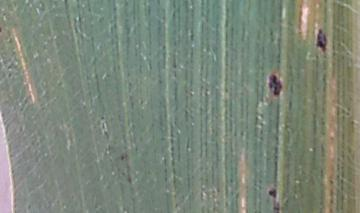tarspot: (266, 73, 284, 97), (314, 27, 328, 53), (267, 186, 279, 199), (125, 175, 133, 186), (118, 153, 125, 163), (268, 27, 275, 37), (99, 115, 106, 122), (6, 64, 13, 71), (7, 71, 11, 79), (62, 1, 69, 5), (323, 1, 329, 5), (1, 24, 3, 34)
